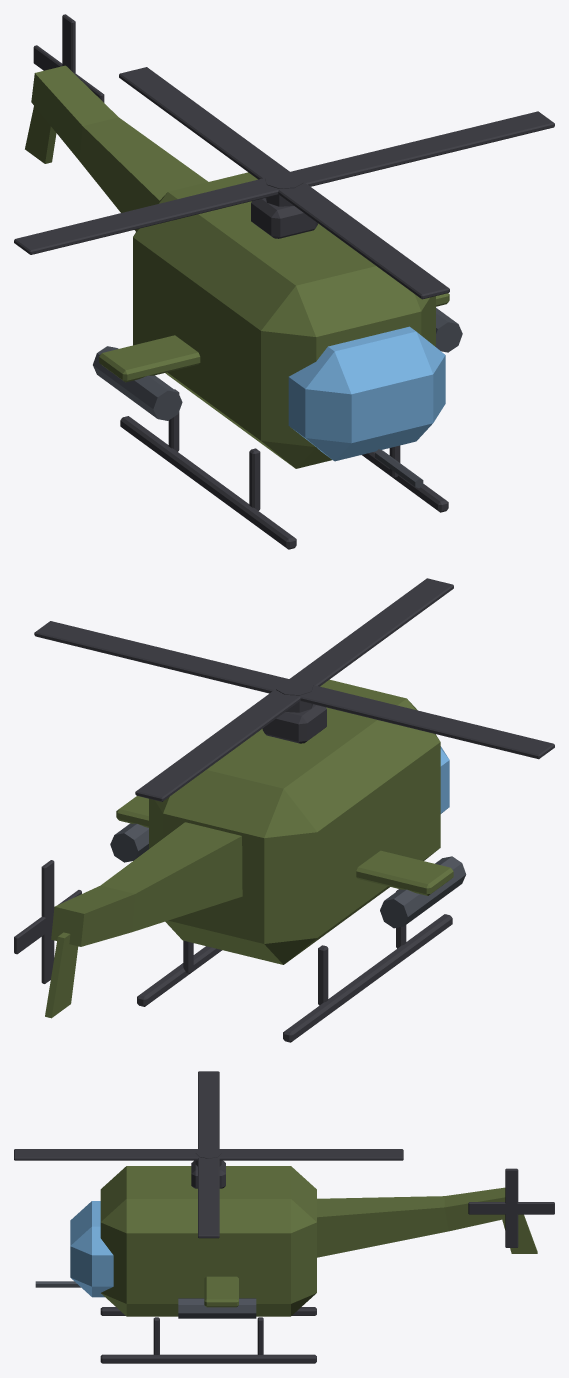
The model's file is AttackHelicopter.fbx.
3 views of the same model, one above another, from view 1: azimuth 30°, elevation 25°; view 2: azimuth 150°, elevation 25°; view 3: azimuth 270°, elevation 25° (orthographic). The views are drawn at different scales.
Visible parts, largest first — view 1: AttackHelicopter, AttackHelicopter_Rotor, AttackHelicopter_TailRotor; view 2: AttackHelicopter, AttackHelicopter_Rotor, AttackHelicopter_TailRotor; view 3: AttackHelicopter, AttackHelicopter_Rotor, AttackHelicopter_TailRotor.
Part boxes in pixels (x1,y1,x2,y2): AttackHelicopter: (25,65,462,549); AttackHelicopter_Rotor: (14,67,554,299); AttackHelicopter_TailRotor: (33,14,104,102); AttackHelicopter: (45,679,466,1042); AttackHelicopter_Rotor: (34,578,554,801); AttackHelicopter_TailRotor: (14,860,81,983); AttackHelicopter: (35,1160,537,1363); AttackHelicopter_Rotor: (14,1071,403,1238); AttackHelicopter_TailRotor: (468,1168,554,1247).
Bounding box in the file's own units: 9 × 4.74 × 12.5.
Materials: 1 (1 with a texture image).
